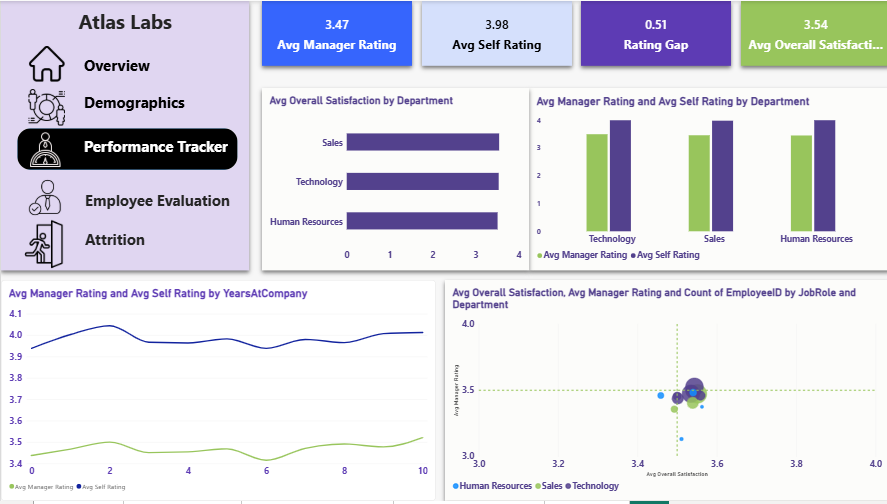

Layout of this report page (visuals, bound fields, positions):
{"tool":"powerbi","page":{"name":"Performance Tracker","canvas":[1920,1080],"ordinal":2},"visuals":[{"type":"textbox","title":"Atlas Labe","box":[0,0,536.3,581.9],"z":0,"group":"g1"},{"type":"card","fields":{"Values":["_Measures.Avg Manger Rating"]},"box":[563.1,0,324,140.4],"z":0},{"type":"card","fields":{"Values":["_Measures.Avg Self Rating"]},"box":[909.1,0,324,140.4],"z":1000},{"type":"image","box":[31.7,97.9,132.8,77],"z":1000,"group":"g1"},{"type":"card","fields":{"Values":["_Measures.Rating Gap"]},"box":[1252.3,0,324,140.4],"z":2000},{"type":"shape","box":[34.9,273.5,477.3,91.2],"z":2000,"group":"g1"},{"type":"card","fields":{"Values":["_Measures.Avg Overall Satisfaction"]},"box":[1598.2,0,324,140.4],"z":3000},{"type":"textbox","box":[180,117.6,218,291.5],"z":3000,"group":"g1"},{"type":"clusteredColumnChart","fields":{"Category":["DimEmployee.Department"],"Y":["_Measures.Avg Manger Rating","_Measures.Avg Self Rating"]},"box":[1139.7,187.7,780.3,394.2],"z":4000},{"type":"image","box":[24.6,469,137.8,112.9],"z":4000,"group":"g1"},{"type":"barChart","fields":{"Category":["DimEmployee.Department"],"Y":["_Measures.Avg Overall Satisfaction"]},"box":[563.1,187.7,576.5,394.2],"z":5000},{"type":"image","box":[52.9,379.2,81.2,89.7],"z":5000,"group":"g1"},{"type":"textbox","box":[180,196.9,327,331.1],"z":6000,"group":"g1"},{"type":"lineChart","fields":{"Category":["DimEmployee.YearsAtCompany"],"Y":["_Measures.Avg Manger Rating","_Measures.Avg Self Rating"]},"box":[0,603.4,938.5,477.3],"z":6000},{"type":"textbox","box":[179.7,292.3,329.8,177],"z":7000,"group":"g1"},{"type":"scatterChart","fields":{"Category":["DimEmployee.JobRole"],"Series":["DimEmployee.Department"],"Size":["CountNonNull(FactPerformanceRating.EmployeeID)"],"X":["_Measures.Avg Overall Satisfaction"],"Y":["_Measures.Avg Manger Rating"]},"box":[960,603.4,960,477.3],"z":7000},{"type":"group","id":"g1","title":"Group 1","box":[0,0,536.3,581.9],"z":8000},{"type":"textbox","box":[182.1,408.2,354.3,118.7],"z":8000,"group":"g1"},{"type":"textbox","box":[182.1,492.2,310,89.7],"z":9000,"group":"g1"},{"type":"image","box":[44,189.9,111,79.3],"z":10000,"group":"g1"},{"type":"image","box":[59,278.9,75.1,85.8],"z":11000,"group":"g1"}]}

Visuals, with their boxes on the page's 1920x1080 design canvas (x1, y1, x2, y2). These are canvas units, not pixel positions in the 887x504 screenshot, which may show the page scaled, cropped or inside an application window:
"Atlas Labe" textbox: [0,0,536,582]
card - _Measures.Avg Manger Rating: [563,0,887,140]
card - _Measures.Avg Self Rating: [909,0,1233,140]
image: [32,98,164,175]
card - _Measures.Rating Gap: [1252,0,1576,140]
shape: [35,274,512,365]
card - _Measures.Avg Overall Satisfaction: [1598,0,1922,140]
textbox: [180,118,398,409]
clusteredColumnChart - DimEmployee.Department x _Measures.Avg Manger Rating: [1140,188,1920,582]
image: [25,469,162,582]
barChart - DimEmployee.Department x _Measures.Avg Overall Satisfaction: [563,188,1140,582]
image: [53,379,134,469]
textbox: [180,197,507,528]
lineChart - DimEmployee.YearsAtCompany x _Measures.Avg Manger Rating: [0,603,938,1081]
textbox: [180,292,510,469]
scatterChart - DimEmployee.JobRole x DimEmployee.Department: [960,603,1920,1081]
"Group 1" group: [0,0,536,582]
textbox: [182,408,536,527]
textbox: [182,492,492,582]
image: [44,190,155,269]
image: [59,279,134,365]
